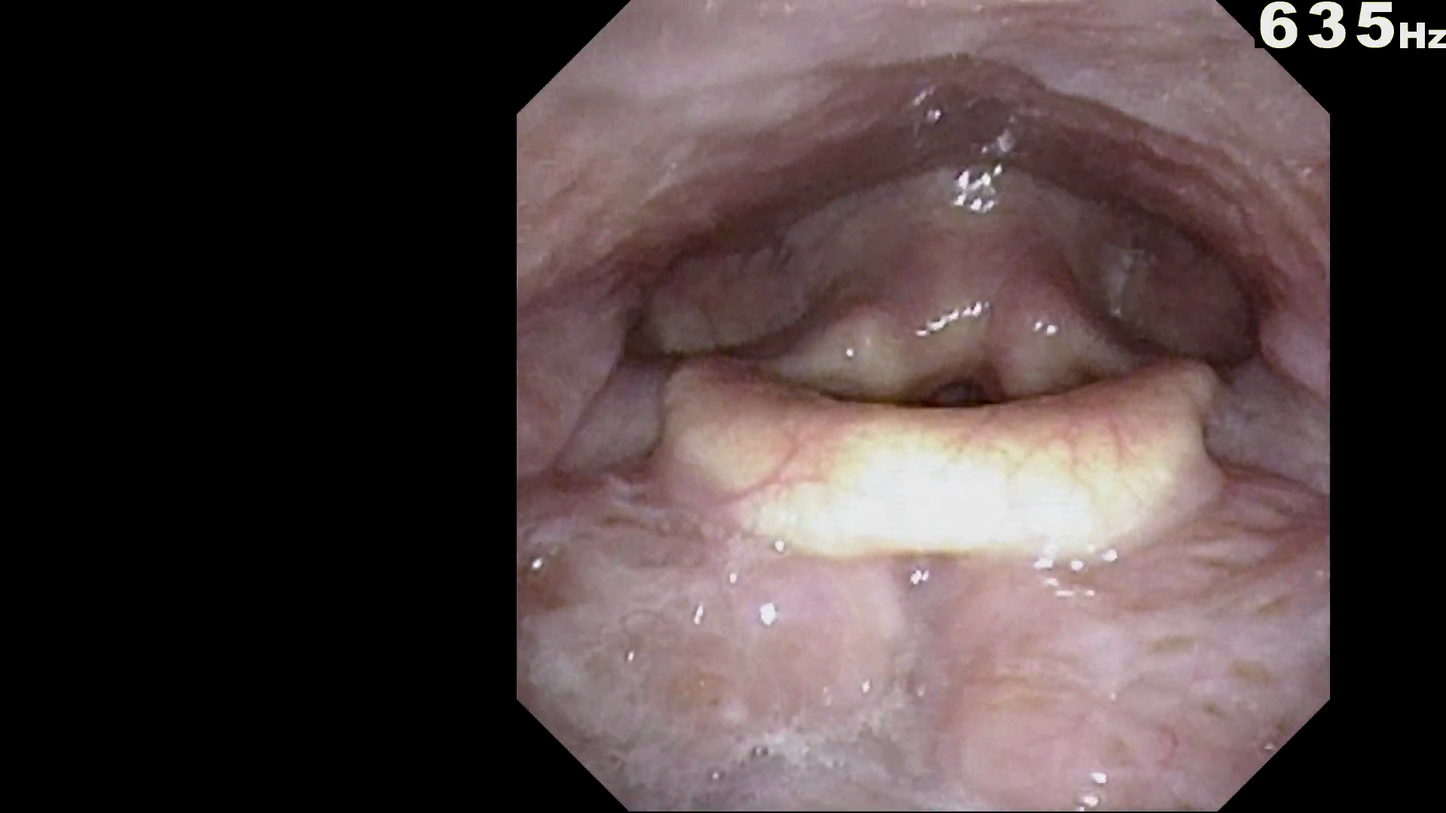epiglottis: (668, 379, 1252, 611)
